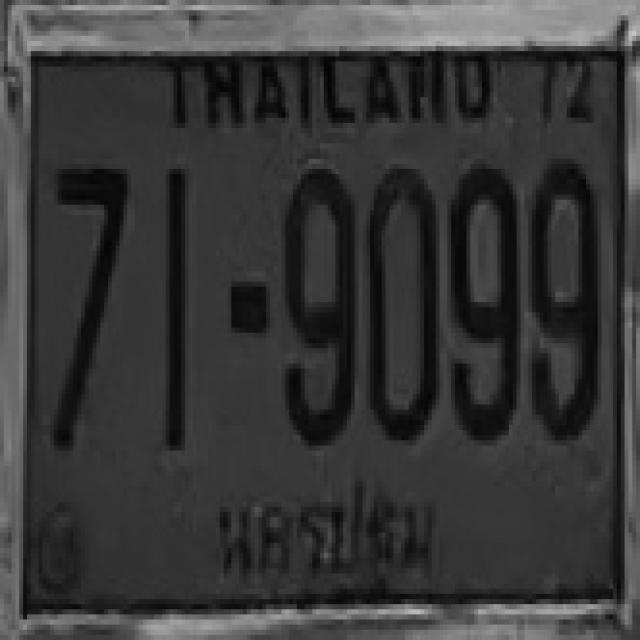0: (366, 166, 436, 438)
1: (162, 164, 185, 425)
7: (52, 164, 125, 440)
9: (281, 164, 355, 440), (528, 159, 598, 435), (447, 164, 517, 435)
NakhonPathom: (208, 468, 450, 590)
